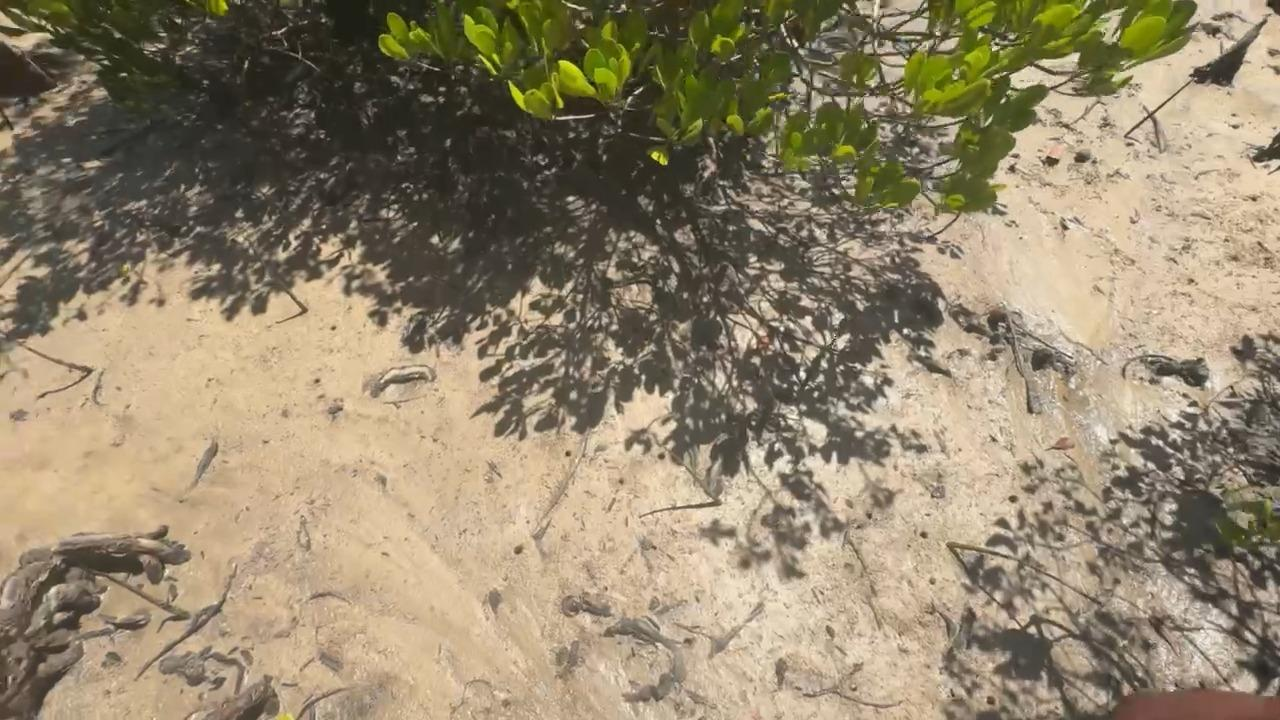Tree: (946, 541, 1105, 607), (92, 568, 190, 619), (246, 236, 309, 314), (1124, 78, 1193, 137), (0, 330, 94, 373), (660, 445, 723, 506)
